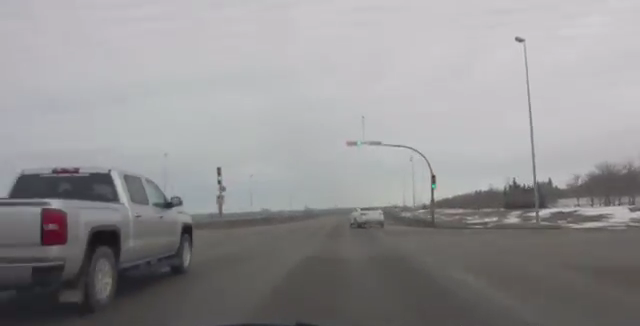car: (1, 164, 194, 317), (348, 206, 384, 229)
